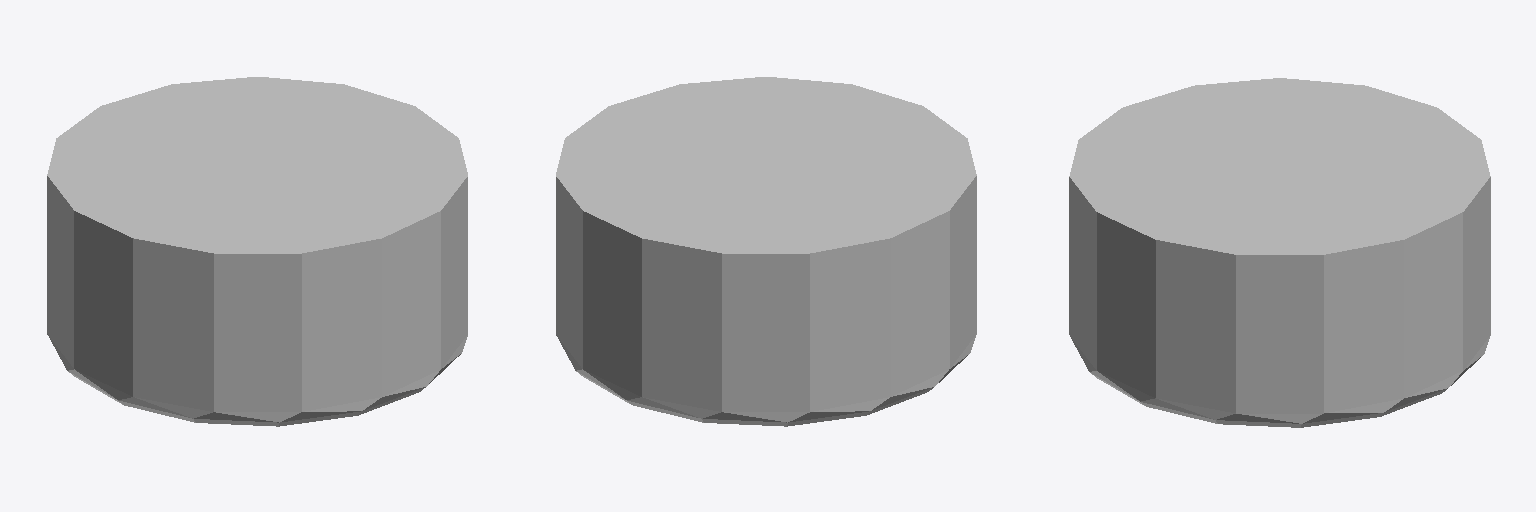
Rendered from FaceButton-B.obj.
The picture shows the model from 3 angles: view 1: azimuth 30°, elevation 25°; view 2: azimuth 150°, elevation 25°; view 3: azimuth 270°, elevation 25°; orthographic projection.
Visible parts, largest first — view 1: FaceButton-B; view 2: FaceButton-B; view 3: FaceButton-B.
Boxes of the visible parts, <box> form: FaceButton-B: <box>47,77,467,426</box>; FaceButton-B: <box>556,77,976,426</box>; FaceButton-B: <box>1069,78,1490,427</box>.
Bounding box in the file's own units: 7.43 × 3.5 × 7.46.